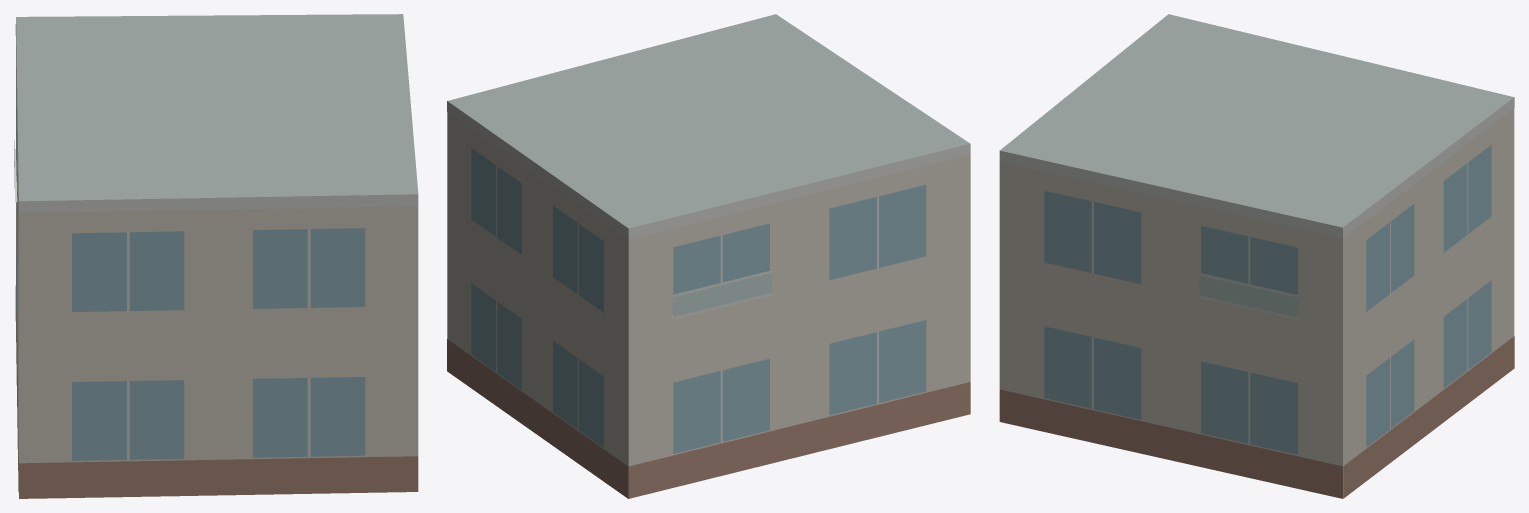
File: survey-upis-32664011.glb
3 renders of one model, left to right at view 1: azimuth 30°, elevation 25°; view 2: azimuth 150°, elevation 25°; view 3: azimuth 270°, elevation 25°, orthographic. The views are drawn at different scales.
Visible parts, largest first — view 1: survey-upis-32664011.tmp; view 2: survey-upis-32664011.tmp; view 3: survey-upis-32664011.tmp.
Boxes of the visible parts, left/top/right/bottom form: survey-upis-32664011.tmp: left=14, top=14, right=418, bottom=498; survey-upis-32664011.tmp: left=447, top=14, right=970, bottom=498; survey-upis-32664011.tmp: left=999, top=14, right=1514, bottom=498.
Size of the model in its own units: 10.31 by 6.1 by 10.5.
